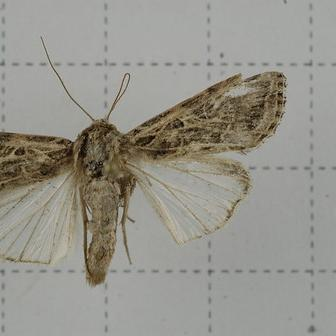Spodoptera litura: (1, 36, 288, 289)
